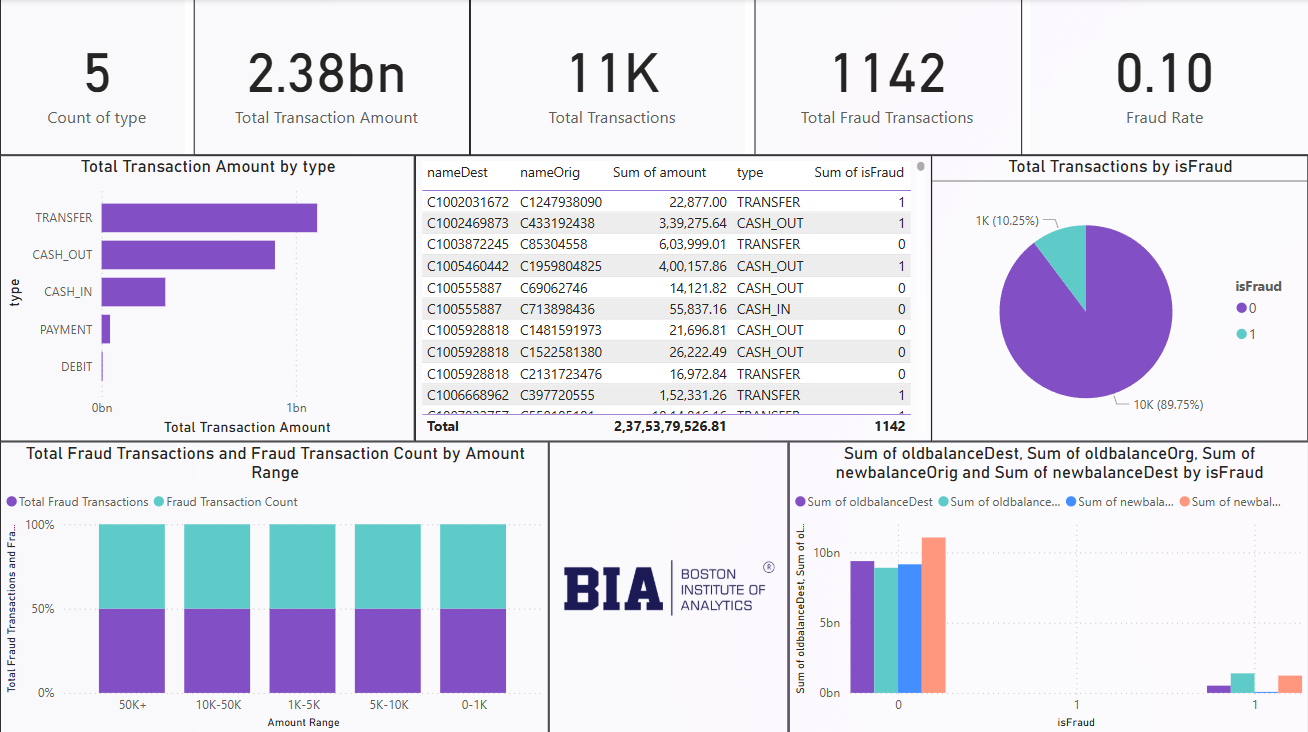

The page's visual inventory and layout, read from the dashboard file:
{"tool":"powerbi","page":{"name":"Page 1","canvas":[1280,720],"ordinal":0},"visuals":[{"type":"card","fields":{"Values":["Fraud_Analysis_Dataset.Total Transaction Amount"]},"box":[180,0,280,152.9],"z":0},{"type":"card","fields":{"Values":["Fraud_Analysis_Dataset.Total Fraud Transactions"]},"box":[727.1,0,281.4,152.9],"z":1},{"type":"card","fields":{"Values":["Fraud_Analysis_Dataset.Fraud Rate"]},"box":[998.6,0,281.4,152.9],"z":2},{"type":"card","fields":{"Values":["Fraud_Analysis_Dataset.Total Transactions"]},"box":[459.8,0,278.8,152.9],"z":3},{"type":"barChart","fields":{"Y":["Fraud_Analysis_Dataset.Total Transaction Amount"],"Category":["Fraud_Analysis_Dataset.type"]},"box":[0,152.9,405.7,280],"z":4},{"type":"pieChart","fields":{"Category":["Fraud_Analysis_Dataset.isFraud"],"Y":["Fraud_Analysis_Dataset.Total Transactions"]},"box":[911.4,152.9,368.6,280],"z":6},{"type":"tableEx","fields":{"Values":["Fraud_Analysis_Dataset.nameDest","Fraud_Analysis_Dataset.nameOrig","Sum(Fraud_Analysis_Dataset.amount)","Fraud_Analysis_Dataset.type","Sum(Fraud_Analysis_Dataset.isFraud)"]},"box":[405.7,152.9,505.7,280],"z":7},{"type":"card","fields":{"Values":["Count(Fraud_Analysis_Dataset.type)"]},"box":[0,0,190,152.9],"z":8},{"type":"hundredPercentStackedColumnChart","fields":{"Category":["Fraud_Analysis_Dataset.Amount Range"],"Y":["Fraud_Analysis_Dataset.Total Fraud Transactions","Fraud_Analysis_Dataset.Fraud Transaction Count"]},"box":[0,432.9,537.1,287.1],"z":9},{"type":"clusteredColumnChart","fields":{"Category":["Fraud_Analysis_Dataset.isFraud"],"Y":["Sum(Fraud_Analysis_Dataset.oldbalanceDest)","Sum(Fraud_Analysis_Dataset.oldbalanceOrg)","Sum(Fraud_Analysis_Dataset.newbalanceOrig)","Sum(Fraud_Analysis_Dataset.newbalanceDest)"]},"box":[771.4,432.9,508.6,287.1],"z":10},{"type":"image","box":[536.8,432.9,234.8,287.4],"z":11}]}

Visuals, with their boxes in screenshot pixels (x1, y1, x2, y2), scaled from the page's 1280x720 canvas onto the 1308x732 screenshot:
card - Fraud_Analysis_Dataset.Total Transaction Amount: (184,0,470,155)
card - Fraud_Analysis_Dataset.Total Fraud Transactions: (743,0,1031,155)
card - Fraud_Analysis_Dataset.Fraud Rate: (1020,0,1307,155)
card - Fraud_Analysis_Dataset.Total Transactions: (470,0,755,155)
barChart - Fraud_Analysis_Dataset.Total Transaction Amount x Fraud_Analysis_Dataset.type: (0,155,415,440)
pieChart - Fraud_Analysis_Dataset.isFraud x Fraud_Analysis_Dataset.Total Transactions: (931,155,1307,440)
tableEx - Fraud_Analysis_Dataset.nameDest x Fraud_Analysis_Dataset.nameOrig: (415,155,931,440)
card - Count(Fraud_Analysis_Dataset.type): (0,0,194,155)
hundredPercentStackedColumnChart - Fraud_Analysis_Dataset.Amount Range x Fraud_Analysis_Dataset.Total Fraud Transactions: (0,440,549,731)
clusteredColumnChart - Fraud_Analysis_Dataset.isFraud x Sum(Fraud_Analysis_Dataset.oldbalanceDest): (788,440,1307,731)
image: (549,440,788,731)
